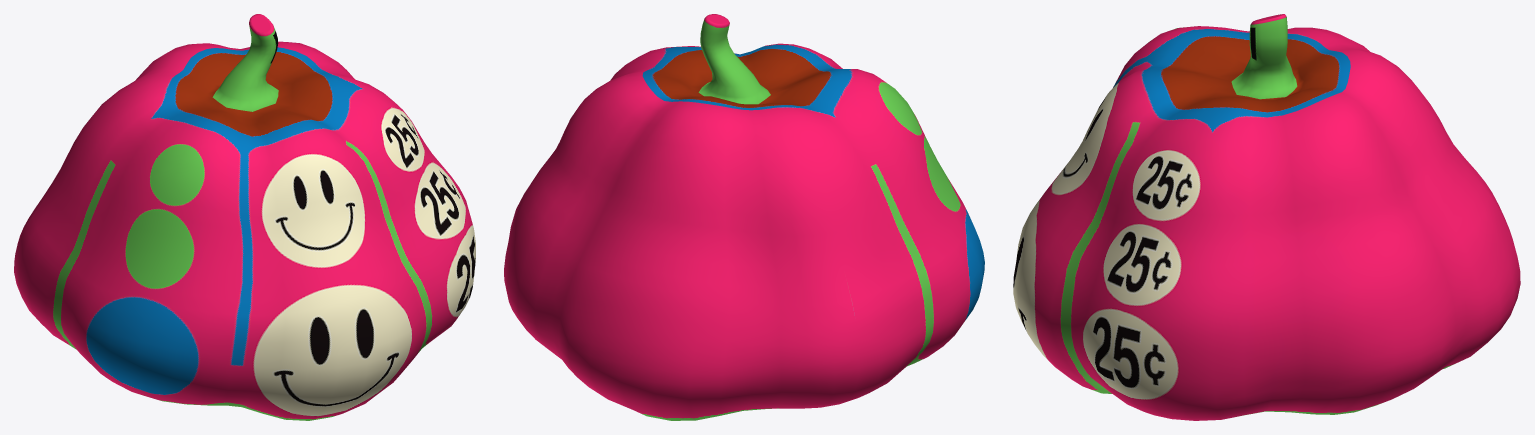
Rendered from Popup.fbx.
The picture shows the model from 3 angles, left to right: view 1: azimuth 30°, elevation 25°; view 2: azimuth 150°, elevation 25°; view 3: azimuth 270°, elevation 25°; orthographic projection. The views are drawn at different scales.
Visible parts, largest first — view 1: Pumpkin275C_04_Motion; view 2: Pumpkin275C_04_Motion; view 3: Pumpkin275C_04_Motion.
Boxes of the visible parts, x1,y1,x2,y2 form: Pumpkin275C_04_Motion: (14, 14, 475, 420); Pumpkin275C_04_Motion: (504, 14, 984, 420); Pumpkin275C_04_Motion: (1013, 14, 1520, 420).
Size of the model in its own units: 23.32 by 19.87 by 24.28.
Materials: 1 (1 with a texture image).
